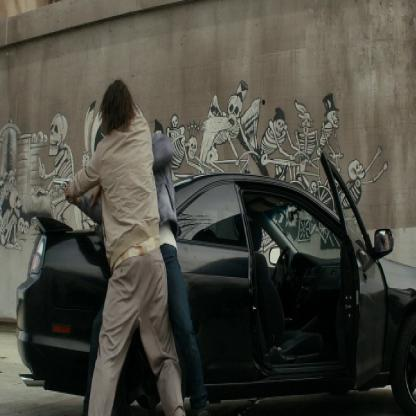Gun: (53, 175, 74, 203)
